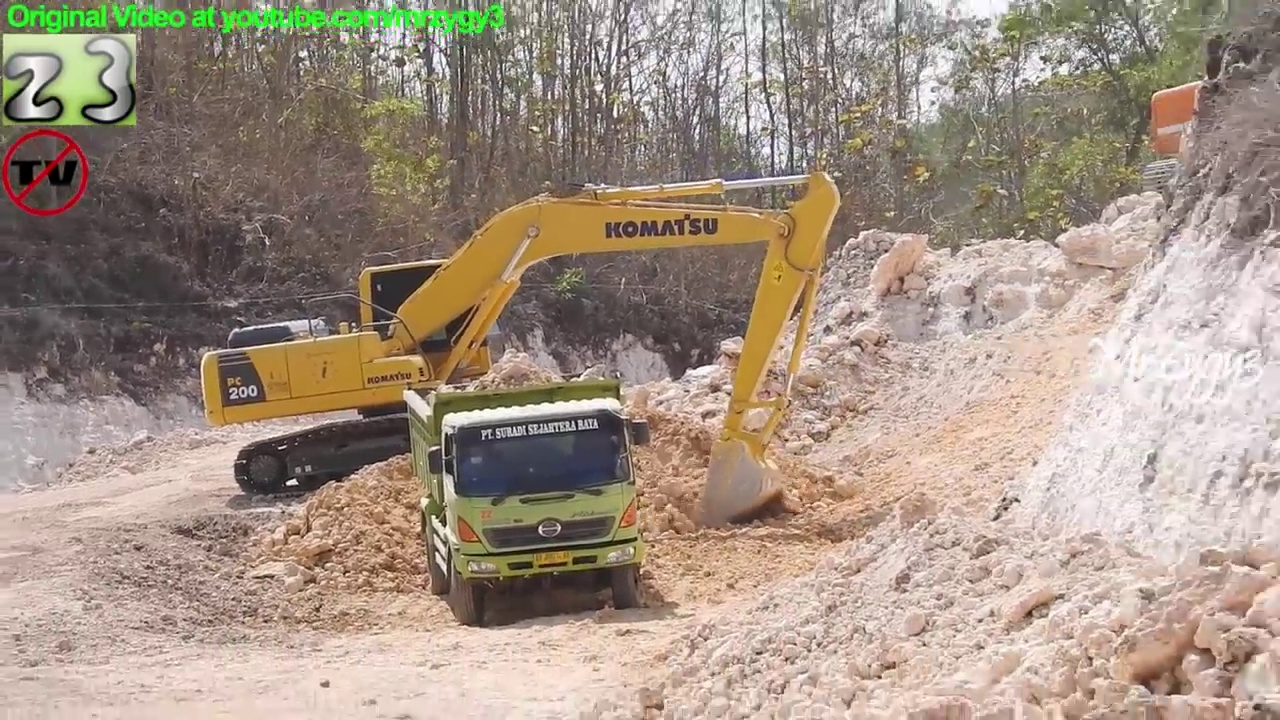excavator: (196, 162, 848, 534), (1137, 44, 1280, 224)
truck: (400, 372, 658, 630)
